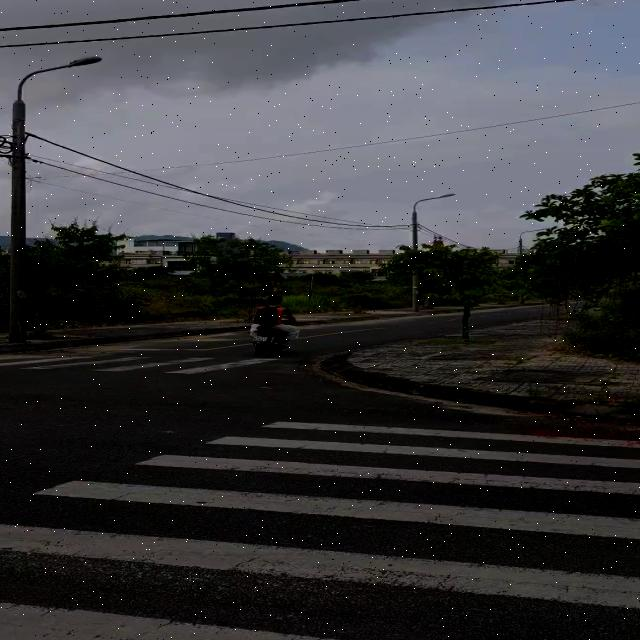no_helmet: (264, 290, 285, 312)
